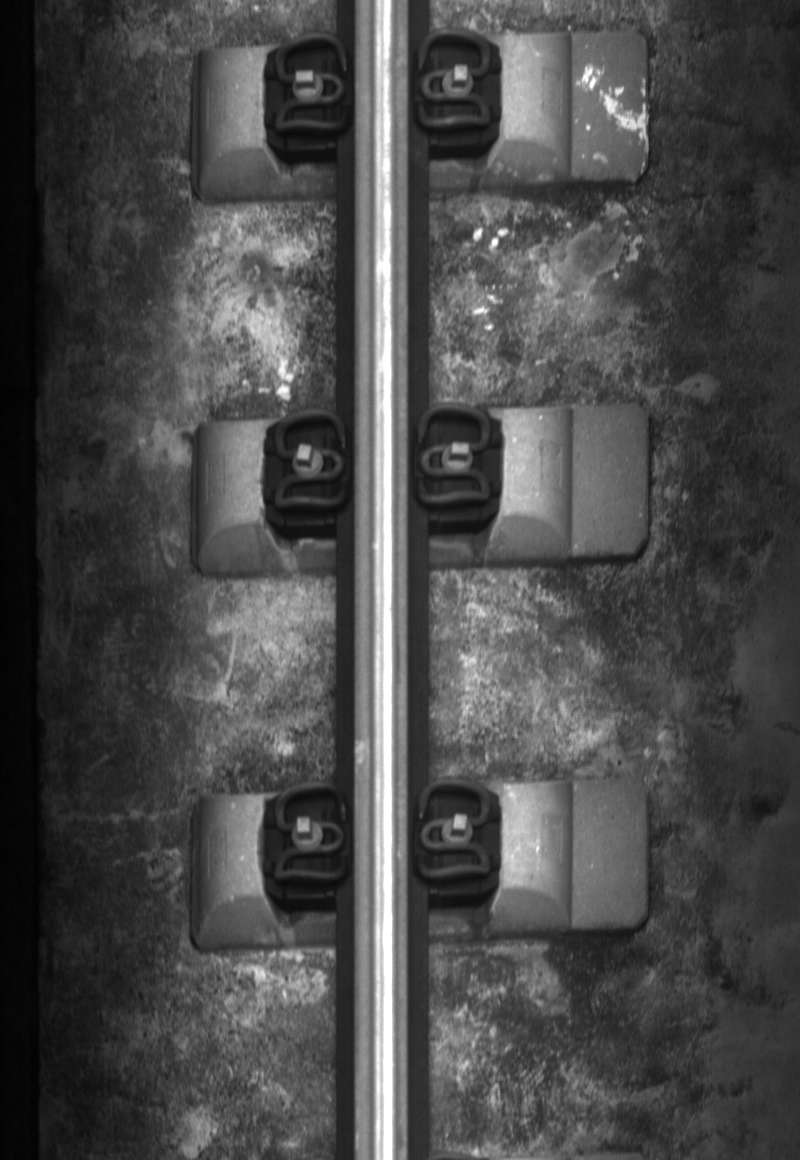l_faster: (268, 775, 351, 892), (269, 30, 353, 143), (269, 405, 352, 519)
r_faster: (411, 773, 496, 887), (411, 400, 495, 513), (413, 25, 494, 134)
